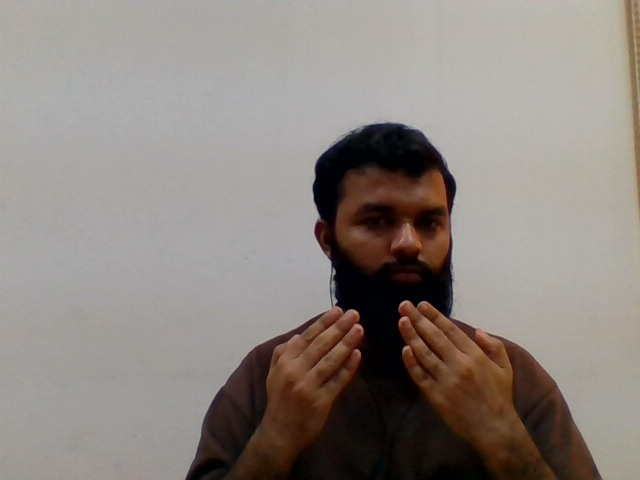Thank You: (252, 227, 528, 437)
